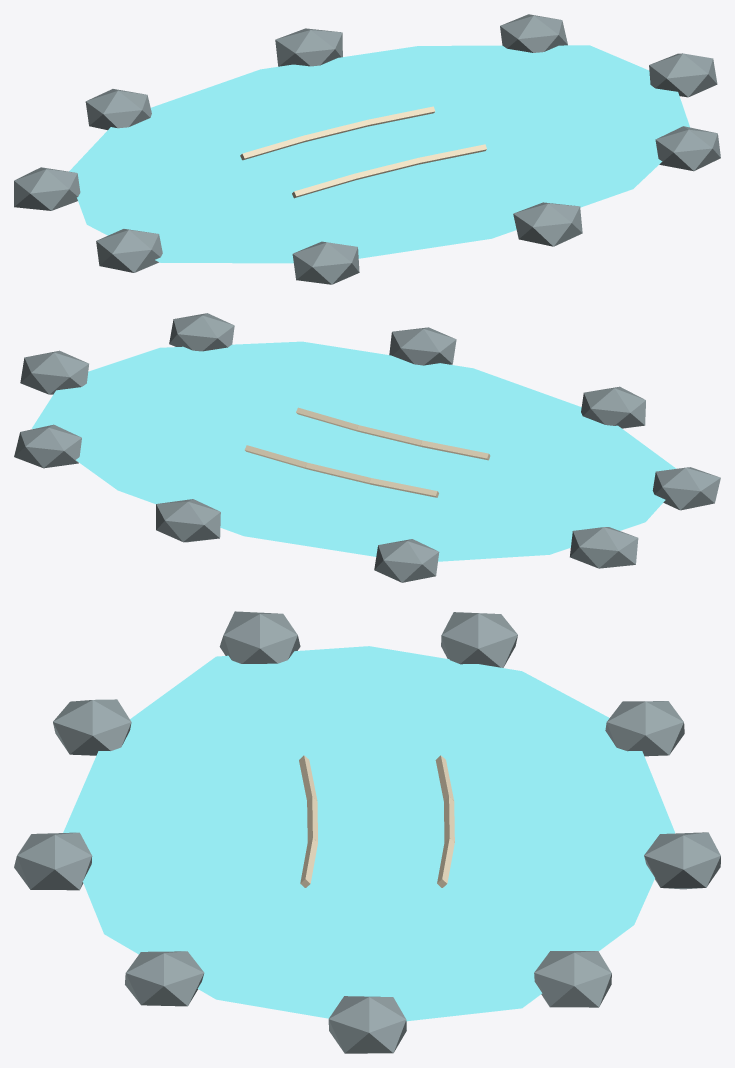
File: enfeite_lago.glb
3 views of the same model, one above another, from view 1: azimuth 30°, elevation 25°; view 2: azimuth 150°, elevation 25°; view 3: azimuth 270°, elevation 25° (orthographic). The views are drawn at different scales.
Visible parts, largest first — view 1: bosque_enfeite_lago; view 2: bosque_enfeite_lago; view 3: bosque_enfeite_lago.
Part boxes in pixels (x1,y1,x2,y2): bosque_enfeite_lago: (14, 14, 720, 284); bosque_enfeite_lago: (14, 313, 720, 582); bosque_enfeite_lago: (14, 611, 720, 1053).
Bounding box in the file's own units: 1.54 × 0.0951 × 1.09.
